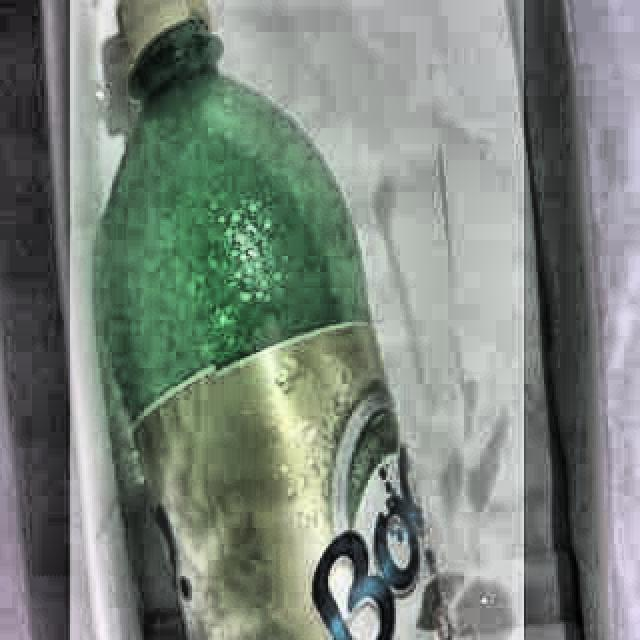plastic: (70, 0, 524, 640)
